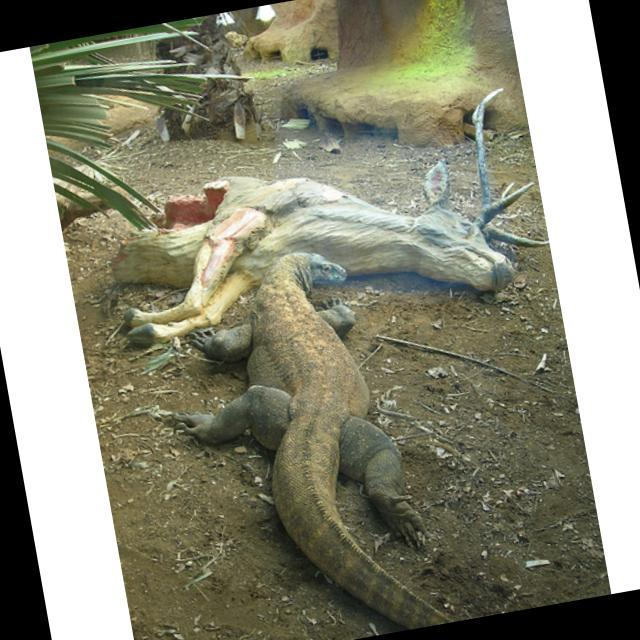KomodoDragon: (136, 231, 457, 640)
